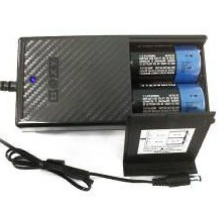battery: (129, 81, 210, 127), (128, 41, 204, 85)
